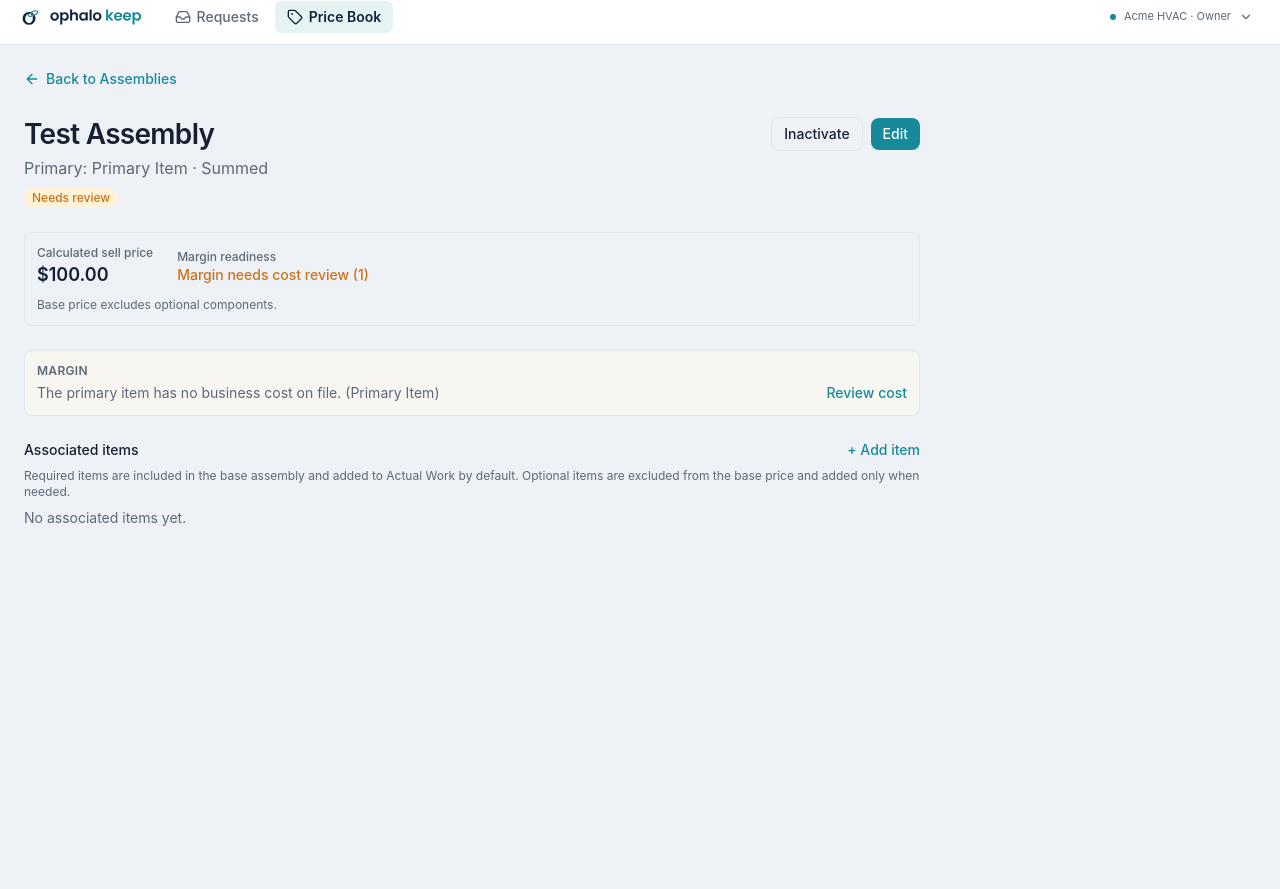
App — Assembly repair-loop routing › publishing a cost from the margin repair link invalidates catalog item/list queries, and returning remounts/refetches the assembly and removes the margin issue
expect the text "Margin needs cost review (1)" is shown: met, box [177,265,369,285]
Click the button "Review cost" at (867, 393), box [826,383,907,403]
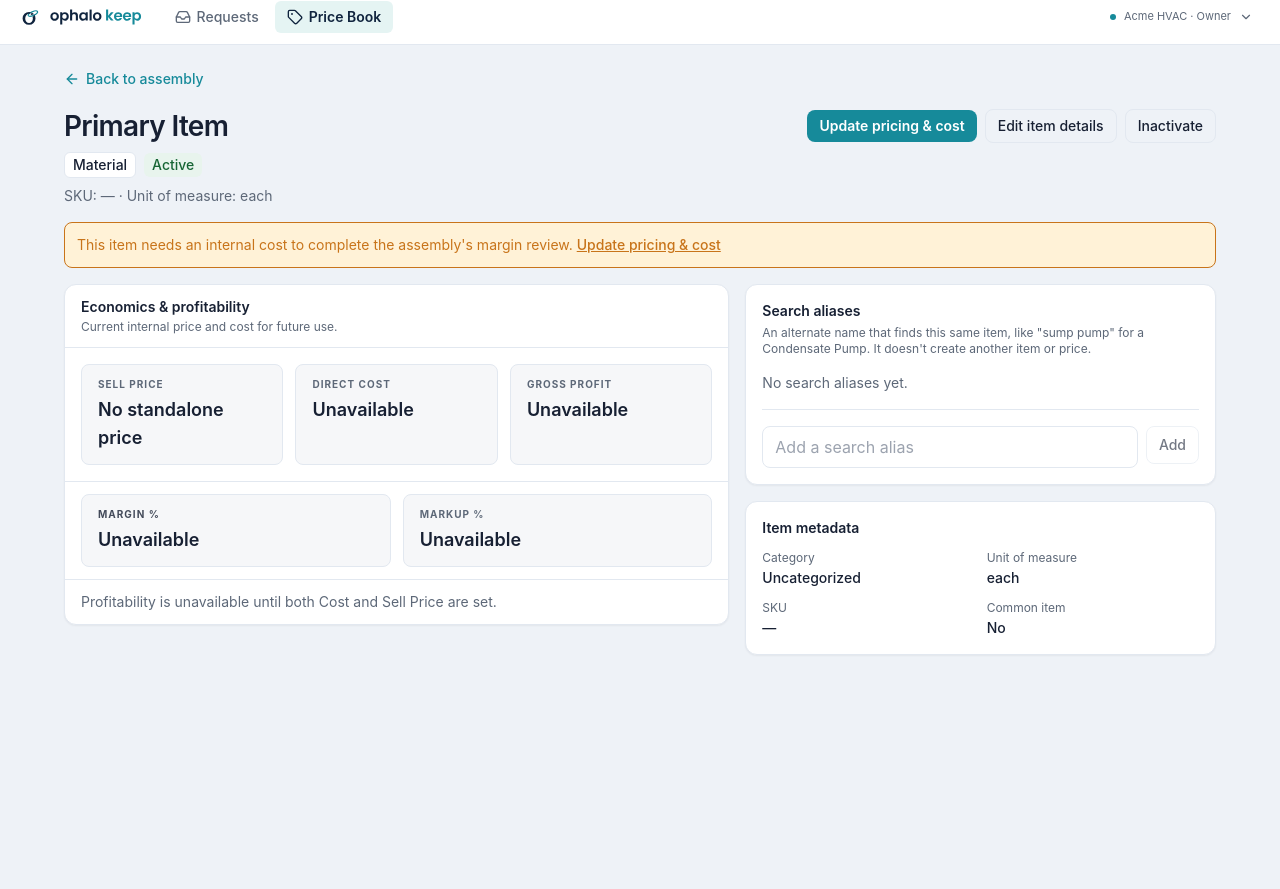
Click the button "Update pricing & cost" in the row of "Primary Item" at (892, 126), box [808,110,977,142]
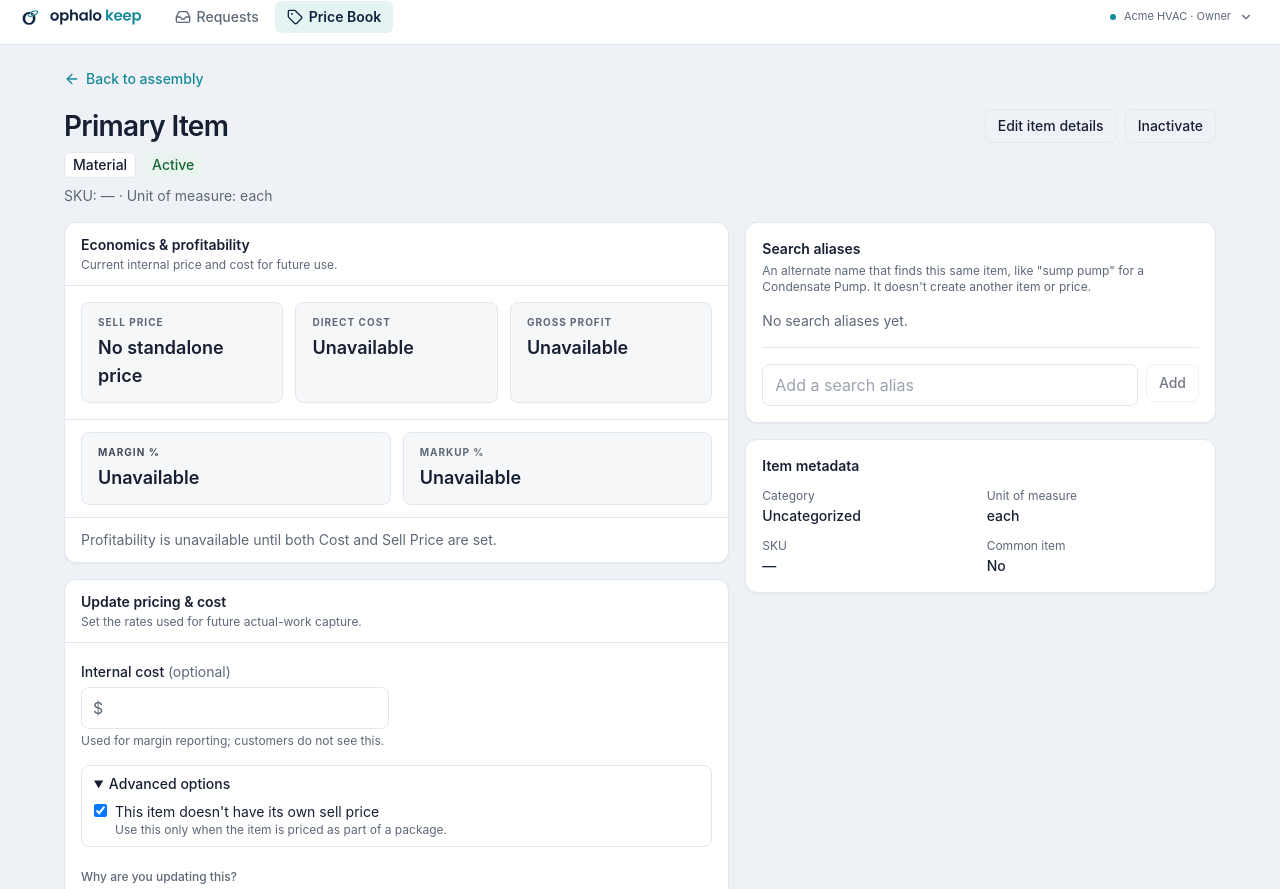
Type "50" into the number field labelled "Internal cost (optional)" at (235, 708), box [81,687,389,729]
(page scrolled)
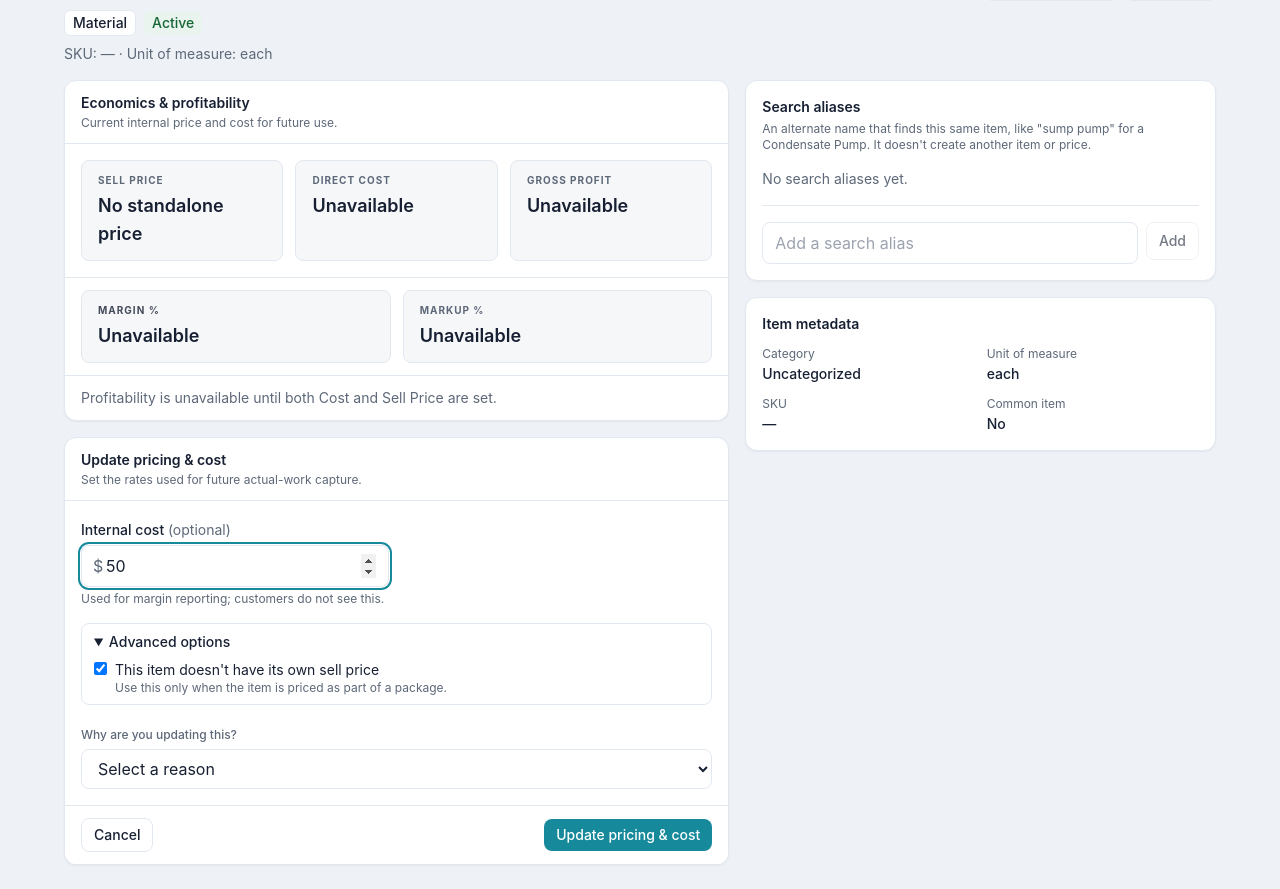
Select "Promotion or seasonal pricing" in the dropdown labelled "Why are you updating this?" at (397, 769), box [81,749,712,789]
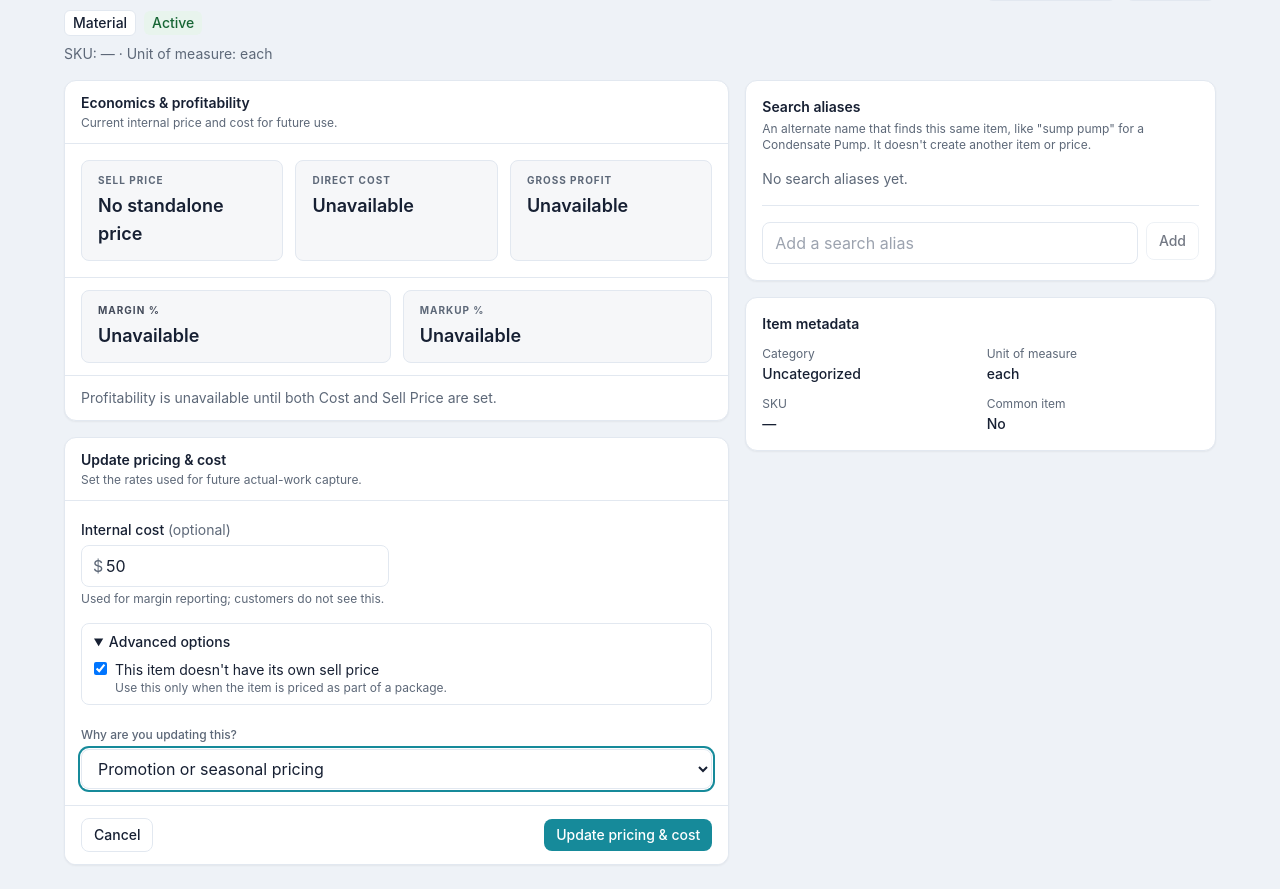
Click the button "Update pricing & cost" at (628, 835), box [544,819,712,851]
(page scrolled)
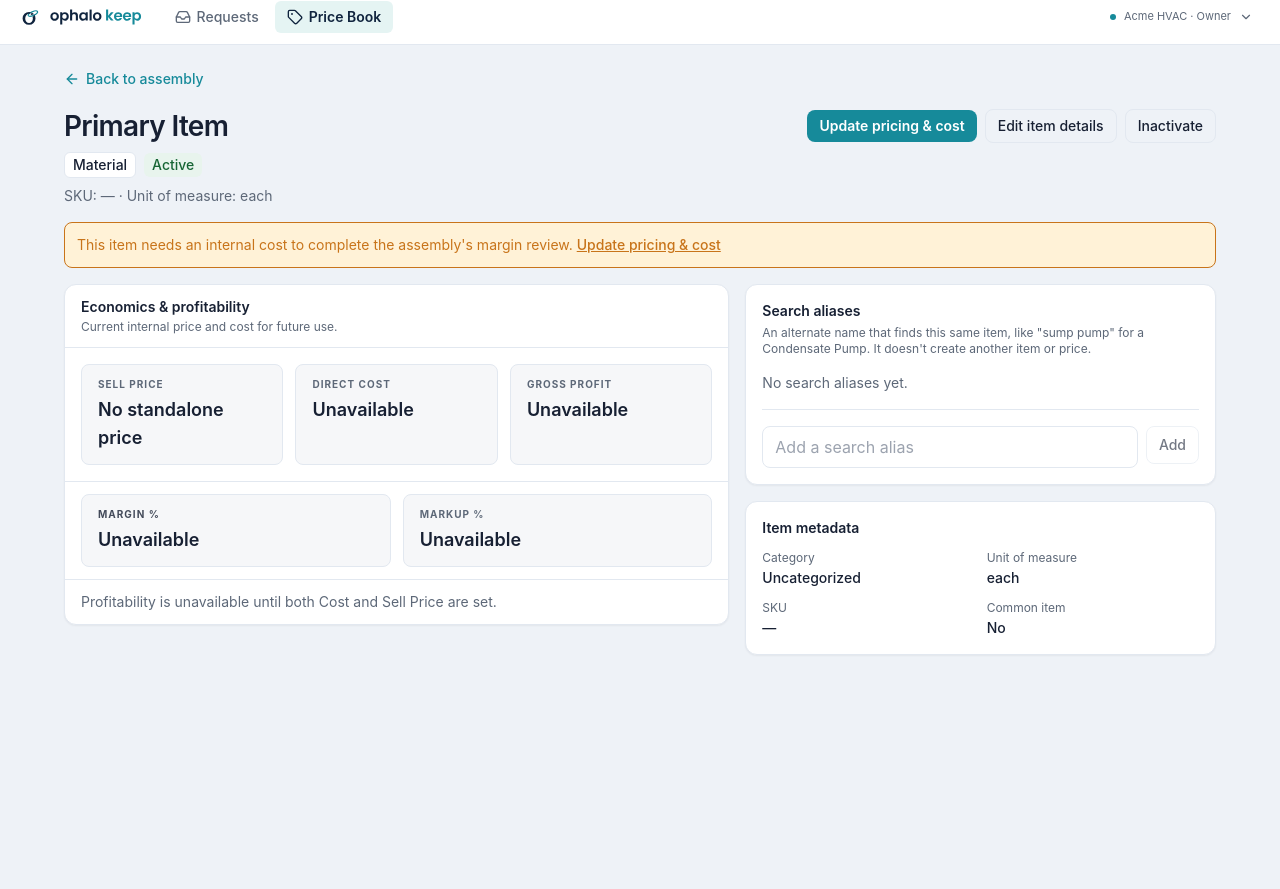
Click the button "Back to assembly" at (134, 79), box [64,69,204,89]
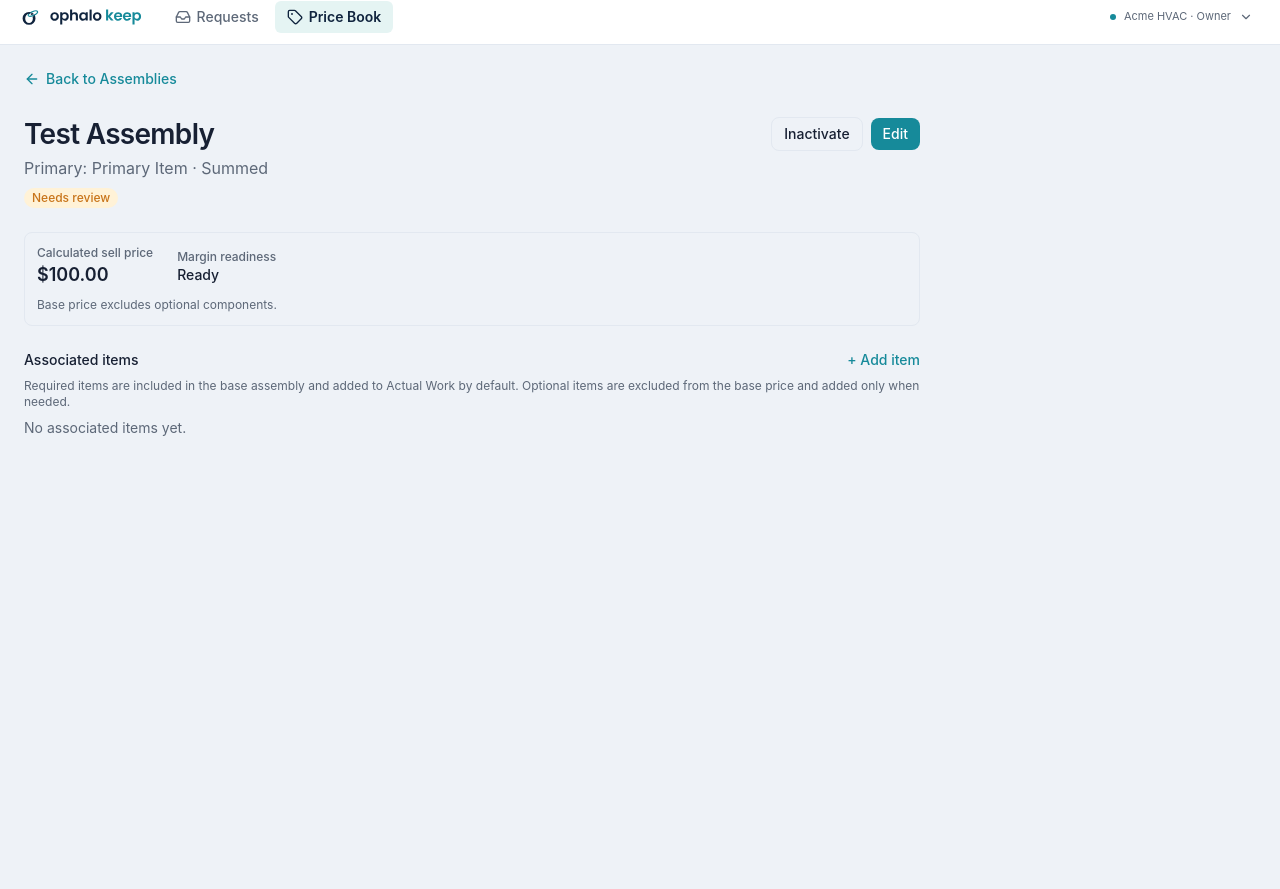
expect the text "Margin needs cost review" is not shown: met
expect the text "Ready" is shown: met, box [177,266,219,283]
